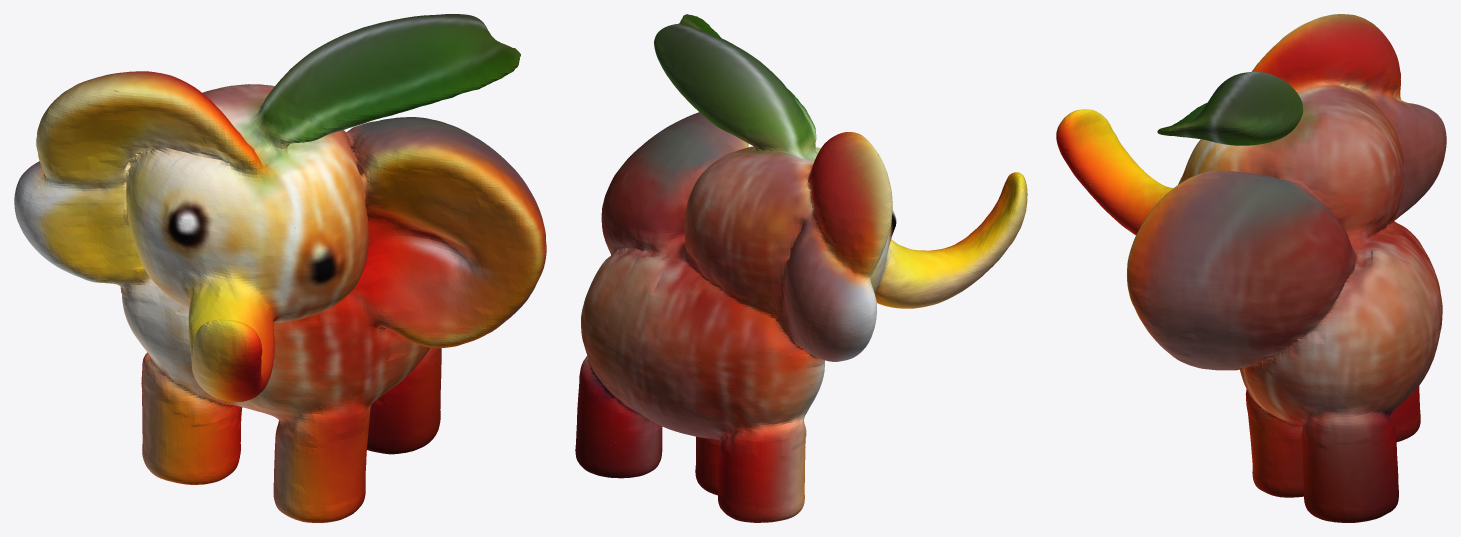
Rendered from fruit_elephant.glb.
The picture shows the model from 3 angles, left to right: view 1: azimuth 30°, elevation 25°; view 2: azimuth 150°, elevation 25°; view 3: azimuth 270°, elevation 25°; orthographic projection. The views are drawn at different scales.
Bounding box in the file's own units: 1.38 × 1.65 × 1.37.
1 material, 1 textured.
